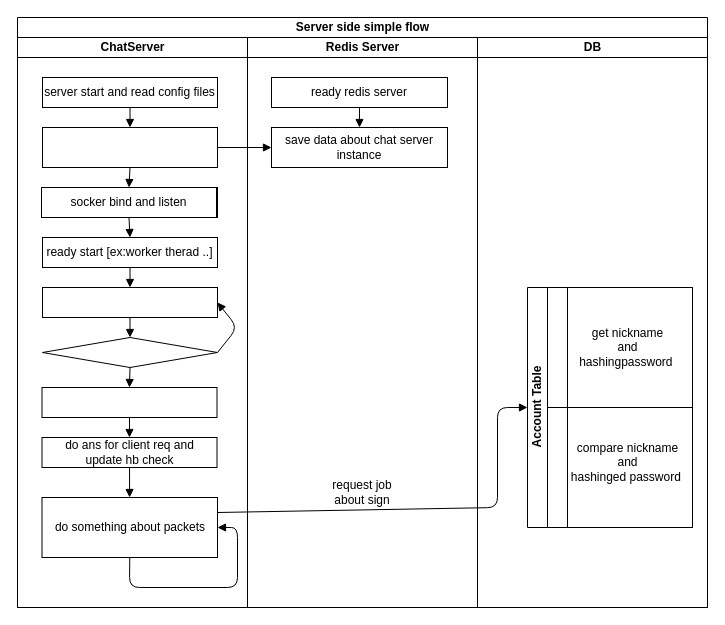
The diagram is 725 pixels wide and 625 high, and some of its shapes have lost their labels. Here are the shapes that lost their labels. From the top down, the box of each, then its label:
(42, 126, 218, 168): try SetString about chatserver info to RedisServer
(42, 286, 218, 318): try socket accept
(42, 336, 218, 368): client connect?
(546, 286, 692, 408): sign up
(41, 386, 217, 418): session create and add to session mgr
(546, 406, 692, 528): sign in
